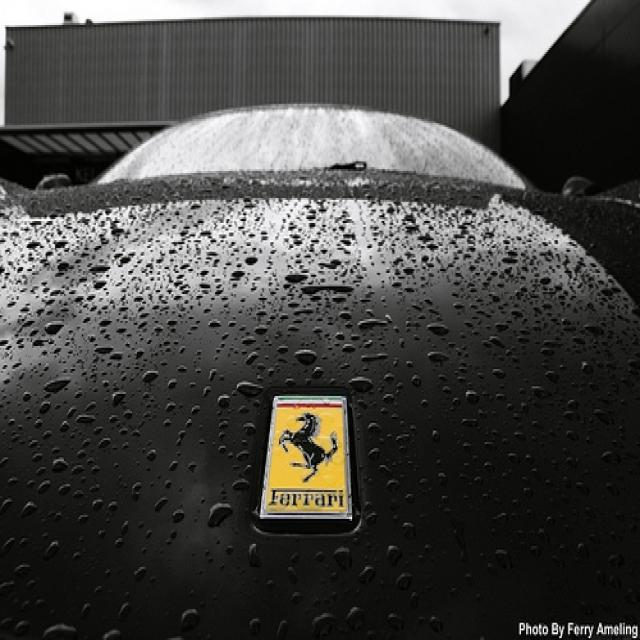ferrari: (263, 395, 353, 516)
